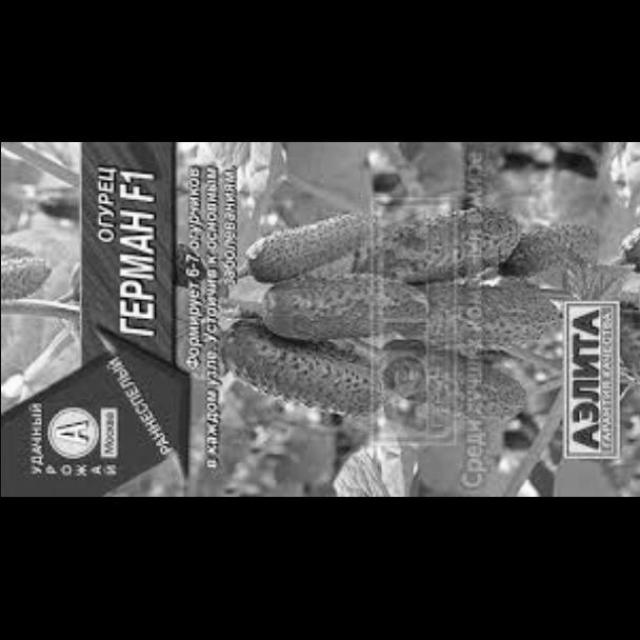cucumber: (213, 317, 402, 437), (359, 337, 534, 427), (398, 186, 556, 275), (238, 282, 420, 354), (225, 216, 382, 292), (404, 280, 560, 352)
